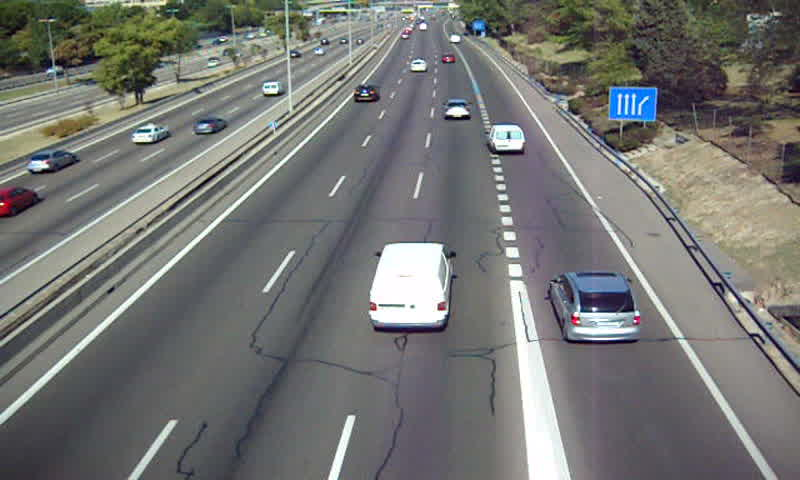car: (552, 271, 641, 342), (441, 98, 474, 121), (353, 84, 378, 104), (409, 57, 428, 73), (440, 52, 457, 65)
van: (369, 242, 452, 331), (489, 126, 525, 153)
